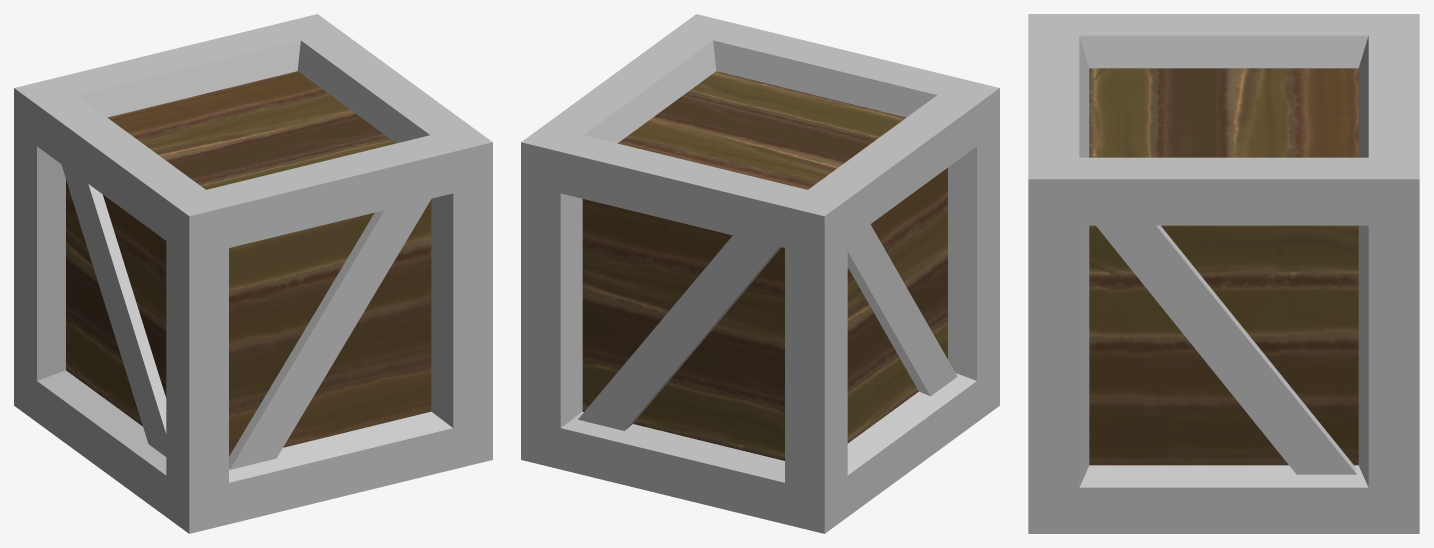
File: Crate.fbx
The picture shows the model from 3 angles, left to right: view 1: azimuth 30°, elevation 25°; view 2: azimuth 150°, elevation 25°; view 3: azimuth 270°, elevation 25°; orthographic projection. The views are drawn at different scales.
Visible parts, largest first — view 1: Crate; view 2: Crate; view 3: Crate.
Boxes of the visible parts, left/top/right/bottom form: Crate: left=14, top=14, right=492, bottom=533; Crate: left=521, top=14, right=999, bottom=533; Crate: left=1028, top=14, right=1419, bottom=533.
Size of the model in its own units: 129 by 129 by 129.
